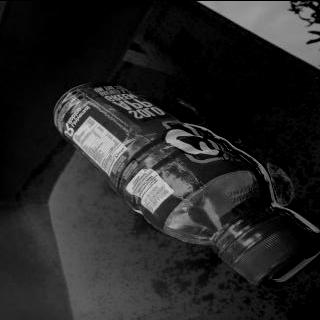bottle: (50, 80, 318, 285)
